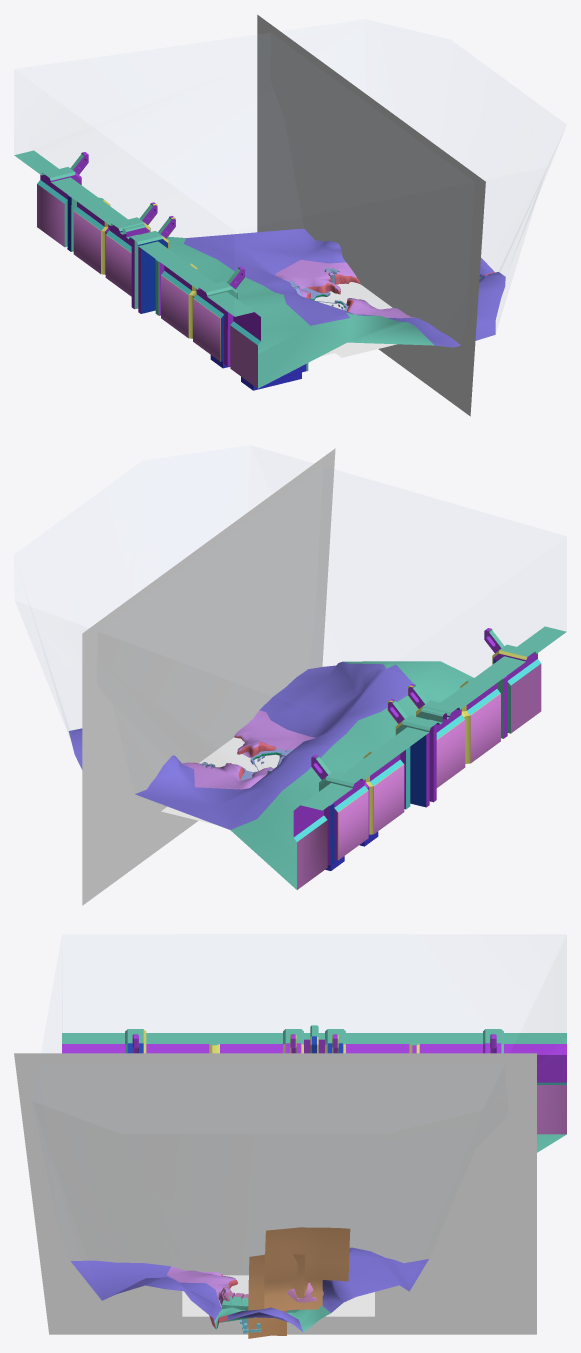
The model's file is sentwall_3.fbx.
3 views of the same model, one above another, from view 1: azimuth 30°, elevation 25°; view 2: azimuth 150°, elevation 25°; view 3: azimuth 270°, elevation 25° (orthographic). The views are drawn at different scales.
Visible parts, largest first — view 1: portals, wall_new.001, mesh_lowres.002, mesh_hires.002, bsp_bridge_shell_06; view 2: portals, mesh_lowres.002, wall_new.001, mesh_hires.002; view 3: portals, wall_new.001, mesh_lowres.002, skysmoke01, skysmoke02, mesh_hires.002.
Boxes of the visible parts, x1,y1,x2,y2 form: portals: (257,14,485,416); wall_new.001: (14,150,260,388); mesh_lowres.002: (167,228,505,388); mesh_hires.002: (275,260,414,318); bsp_bridge_shell_06: (210,355,308,390); portals: (82,448,335,905); mesh_lowres.002: (68,661,473,889); wall_new.001: (293,626,566,889); mesh_hires.002: (182,710,315,789); portals: (14,1053,536,1334); wall_new.001: (62,1025,566,1134); mesh_lowres.002: (70,1134,566,1332); skysmoke01: (264,1227,350,1310); skysmoke02: (248,1254,304,1338); mesh_hires.002: (167,1266,237,1308).
Size of what is drawn, in the model's own units: 52567 by 44954 by 29605.
